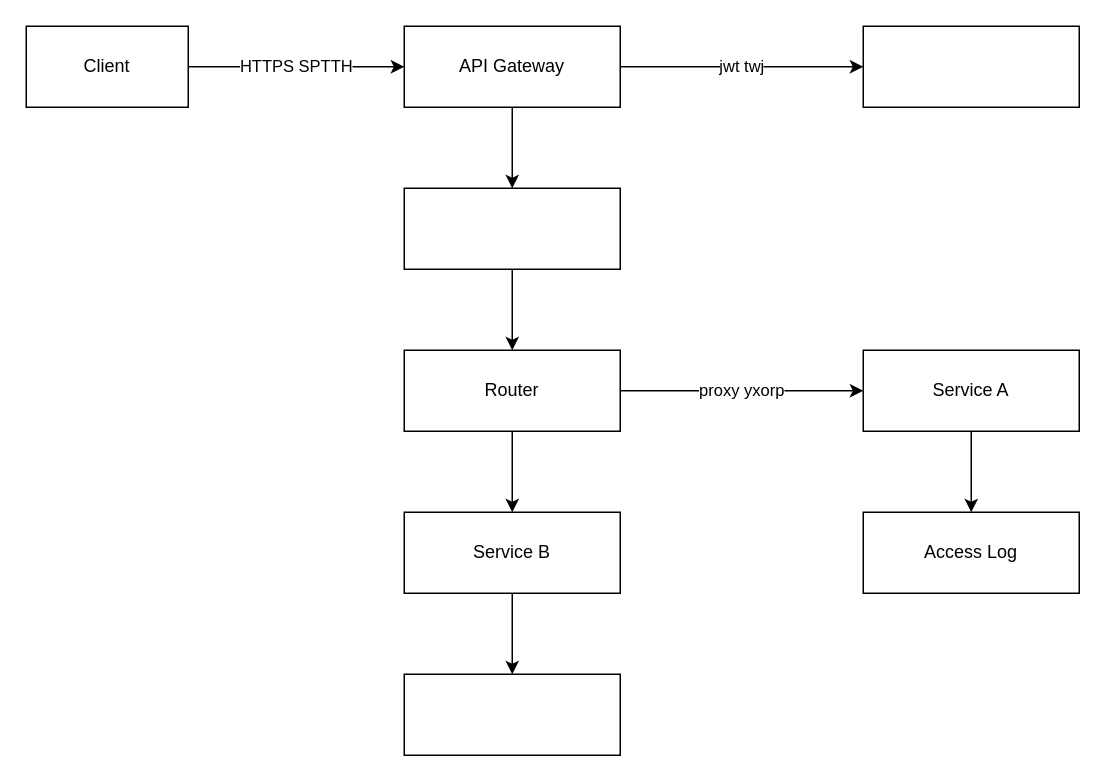
Some shapes in this 1106 by 782 pixel diagram are drawn without their labels. The centre of each missing label's shape, as x and y in pixels:
Auth Svc: (x=970, y=66)
Telemetry: (x=511, y=714)
Throttle: (x=511, y=228)
